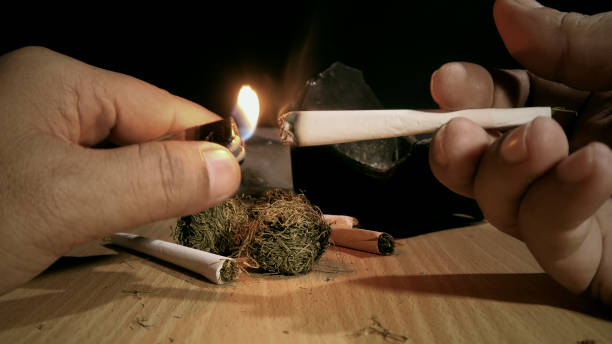cigarette: (281, 106, 552, 145), (109, 231, 242, 285), (328, 227, 396, 256), (322, 213, 354, 227)
